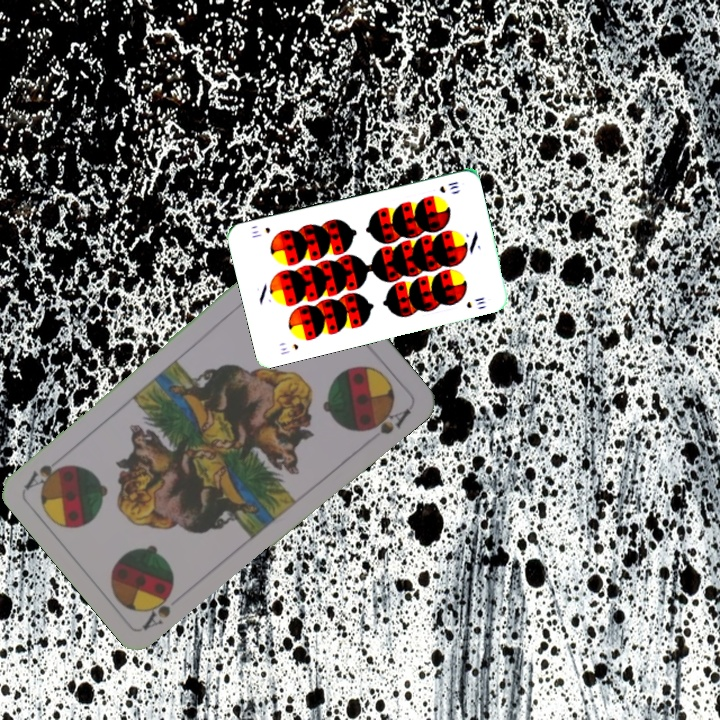S10: (435, 177, 461, 195), (276, 340, 301, 357)
SA: (139, 585, 177, 632)
